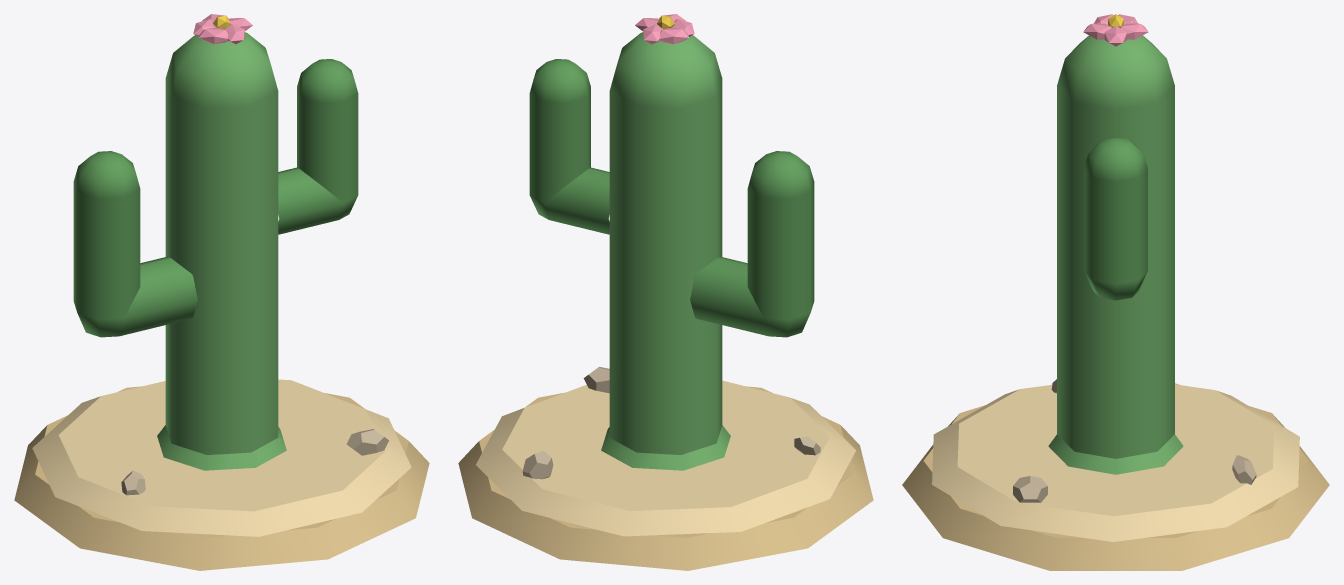
The model's file is saguaro_cactus.glb.
The picture shows the model from 3 angles, left to right: view 1: azimuth 30°, elevation 25°; view 2: azimuth 150°, elevation 25°; view 3: azimuth 270°, elevation 25°; orthographic projection.
Visible parts, largest first — view 1: cactus_trunk_body, sand_top, sand_base, arm_left_upright_body, cactus_trunk_dome, arm_right_upright_body, arm_left_stub, arm_right_stub, arm_left_upright_dome, cactus_foot, arm_right_upright_dome, pebble_0 (+1 smaller); view 2: cactus_trunk_body, sand_top, sand_base, arm_left_upright_body, cactus_trunk_dome, arm_right_upright_body, arm_left_stub, arm_right_stub, arm_left_upright_dome, cactus_foot, arm_right_upright_dome, arm_left_elbow (+2 smaller); view 3: sand_top, cactus_trunk_body, sand_base, cactus_trunk_dome, arm_right_upright_body, cactus_foot, arm_right_upright_dome, arm_right_elbow, pebble_0.
Part boxes in pixels (box(x1,y1,x2,y2)): cactus_trunk_body: box(165, 79, 278, 454); sand_top: box(32, 379, 411, 536); sand_base: box(14, 386, 429, 570); arm_left_upright_body: box(73, 182, 140, 319); cactus_trunk_dome: box(165, 32, 278, 108); arm_right_upright_body: box(297, 88, 358, 202); arm_left_stub: box(119, 256, 197, 336); arm_right_stub: box(278, 167, 343, 234); arm_left_upright_dome: box(73, 151, 140, 199); cactus_foot: box(157, 425, 286, 470); arm_right_upright_dome: box(297, 59, 358, 103); pebble_0: box(346, 429, 388, 455); cactus_trunk_body: box(609, 79, 722, 454); sand_top: box(476, 380, 855, 536); sand_base: box(458, 386, 873, 570); arm_left_upright_body: box(747, 182, 814, 319); cactus_trunk_dome: box(609, 32, 722, 108); arm_right_upright_body: box(529, 88, 590, 202); arm_left_stub: box(690, 256, 768, 336); arm_right_stub: box(544, 167, 609, 234); arm_left_upright_dome: box(747, 151, 814, 199); cactus_foot: box(601, 425, 730, 470); arm_right_upright_dome: box(529, 59, 590, 103); arm_left_elbow: box(763, 313, 810, 337); sand_top: box(932, 384, 1299, 541); cactus_trunk_body: box(1057, 85, 1174, 458); sand_base: box(902, 383, 1329, 570); cactus_trunk_dome: box(1057, 35, 1174, 109); arm_right_upright_body: box(1084, 169, 1147, 283); cactus_foot: box(1048, 434, 1183, 474); arm_right_upright_dome: box(1084, 136, 1147, 181); arm_right_elbow: box(1084, 271, 1147, 300); pebble_0: box(1013, 476, 1047, 502).
Bounding box in the file's own units: 1.52 × 1.93 × 1.6.
